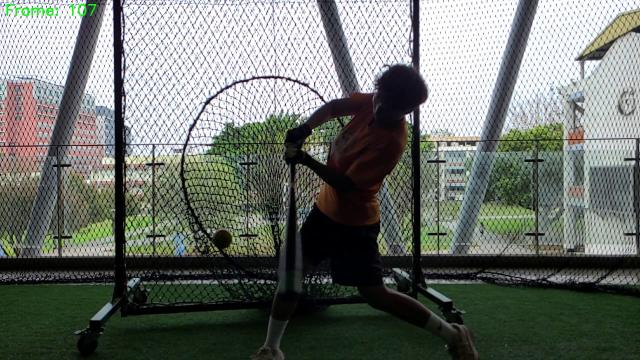baseball bat: (278, 157, 304, 295)
sports ball: (214, 230, 232, 248)
